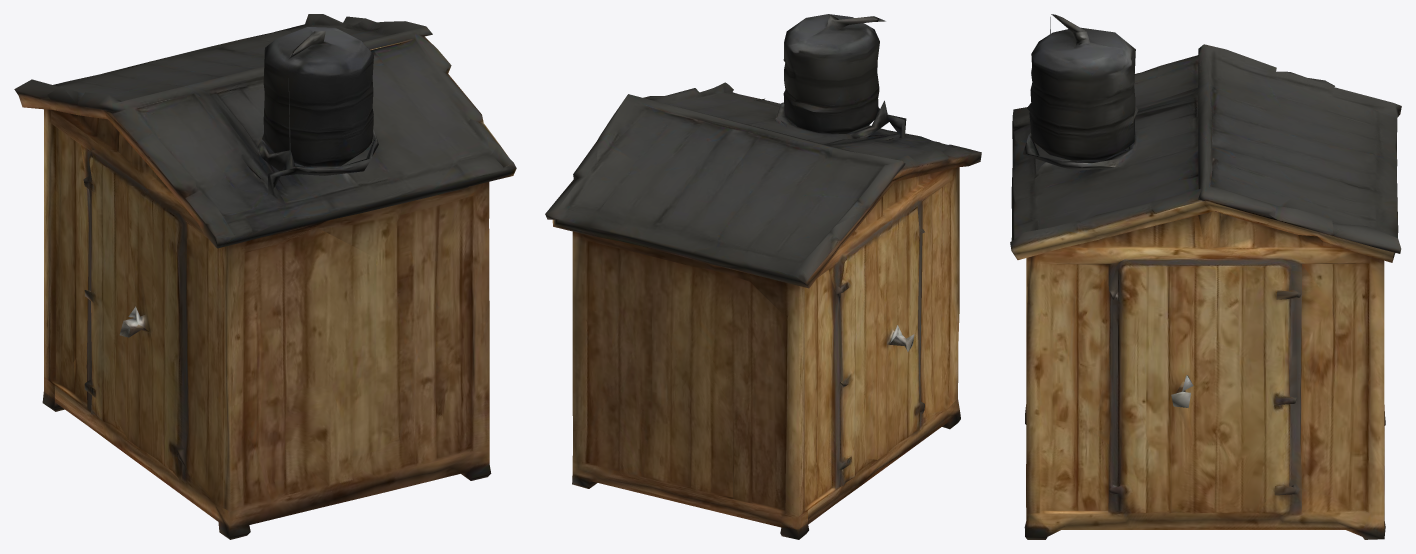
File: qr_shower.glb
3 renders of one model, left to right at view 1: azimuth 30°, elevation 25°; view 2: azimuth 150°, elevation 25°; view 3: azimuth 270°, elevation 25°, orthographic. The views are drawn at different scales.
Visible parts, largest first — view 1: tripo_node_ca937542-a202-484f-8a36-51eb2ea2b898; view 2: tripo_node_ca937542-a202-484f-8a36-51eb2ea2b898; view 3: tripo_node_ca937542-a202-484f-8a36-51eb2ea2b898.
Part boxes in pixels (box(x1,y1,x2,y2)): tripo_node_ca937542-a202-484f-8a36-51eb2ea2b898: box(14, 14, 516, 539); tripo_node_ca937542-a202-484f-8a36-51eb2ea2b898: box(545, 14, 981, 539); tripo_node_ca937542-a202-484f-8a36-51eb2ea2b898: box(1010, 14, 1401, 539).
Bounding box in the file's own units: 0.7266 × 1 × 0.8011.
1 material, 1 textured.
